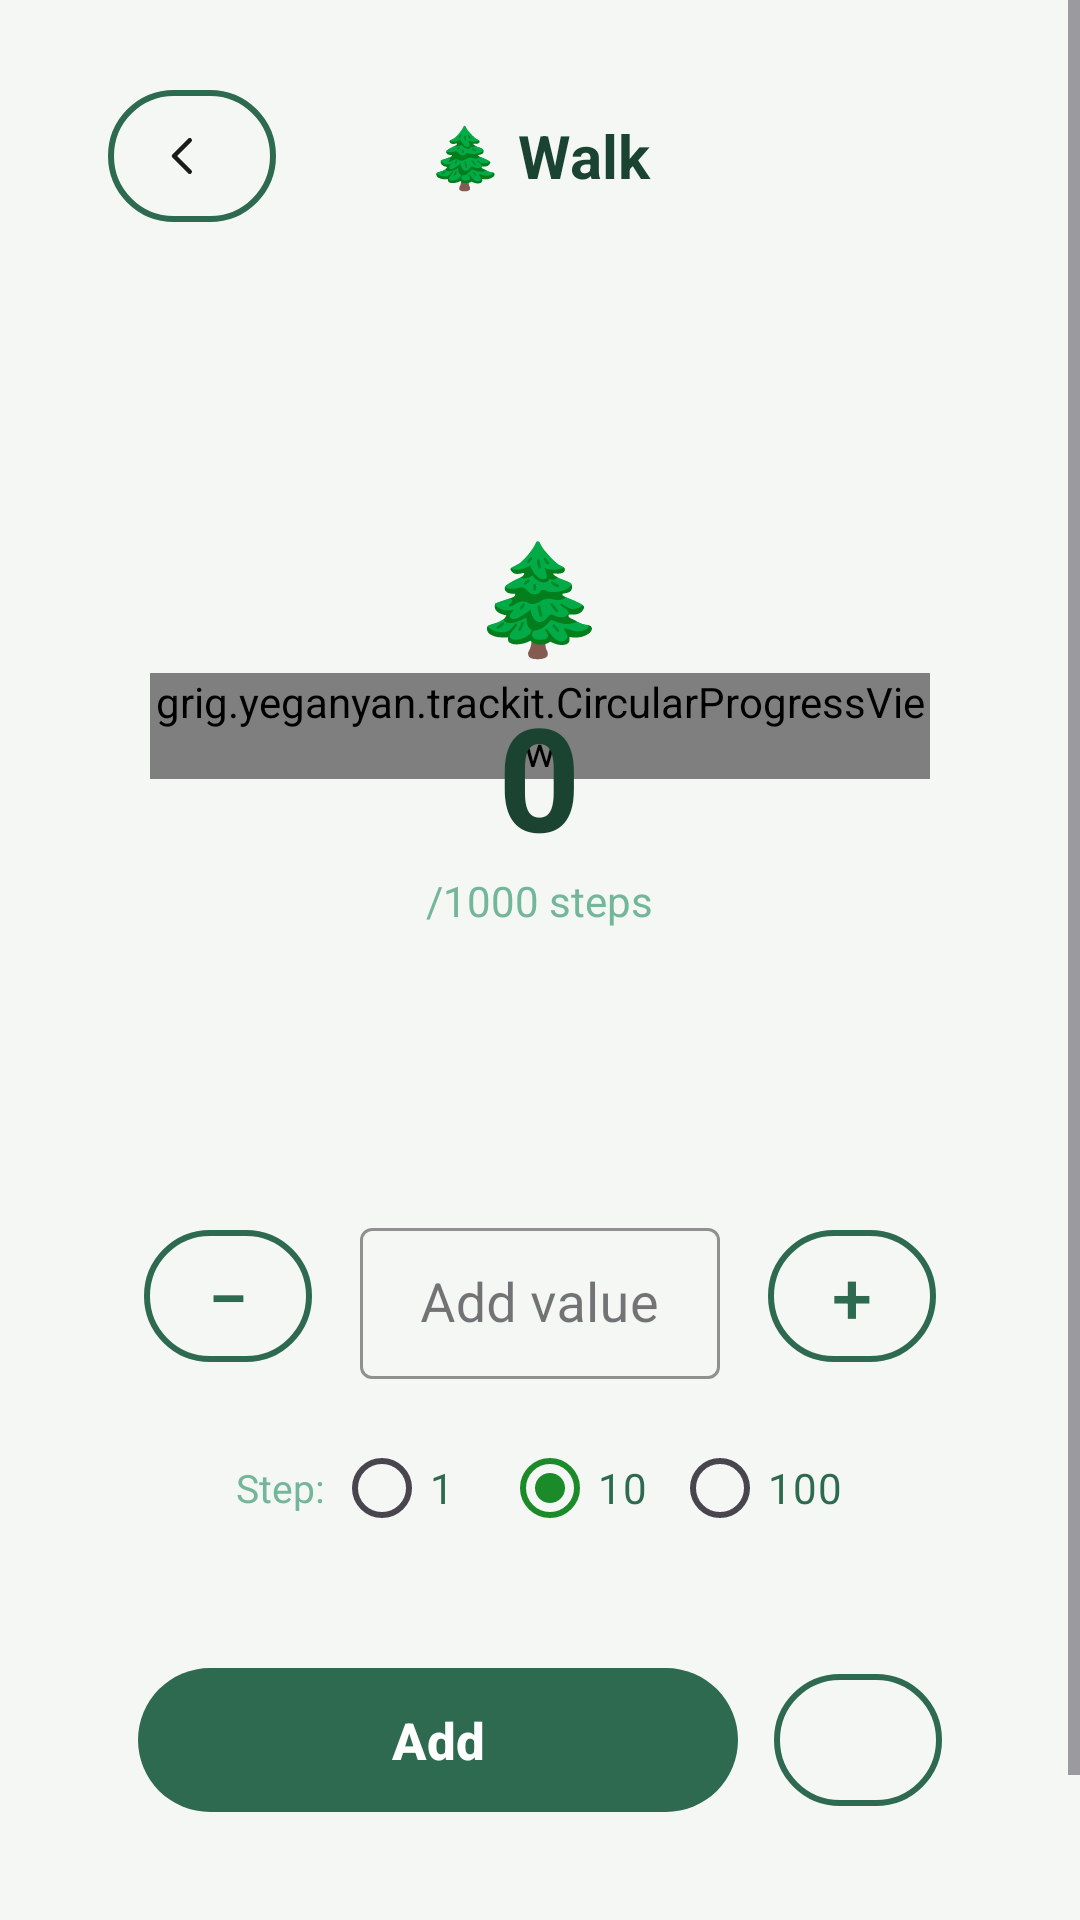

Screen size 1080w x 1920h. Icon name, then its center in pixels as (x,y):
arrow back: (192,156)
